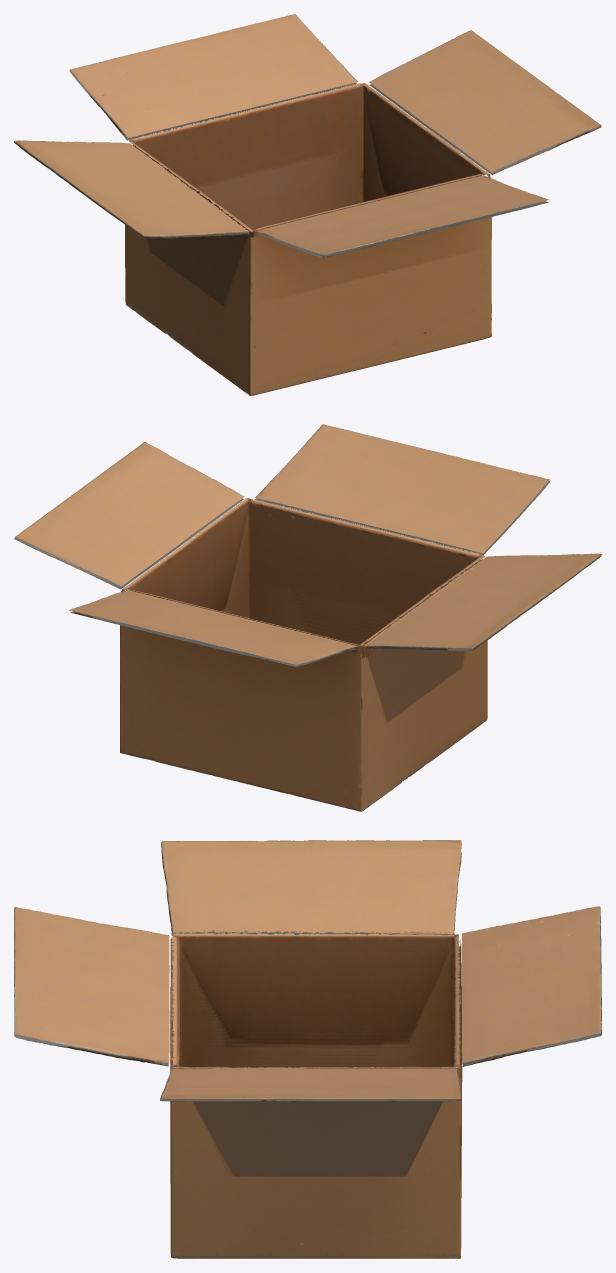
File: carton-split-v3.glb
3 renders of one model, top to bottom at view 1: azimuth 30°, elevation 25°; view 2: azimuth 150°, elevation 25°; view 3: azimuth 270°, elevation 25°, orthographic. The views are drawn at different scales.
Visible parts, largest first — view 1: Mesh_0, Mesh_0.004, Mesh_0.003, Mesh_0.001, Mesh_0.002; view 2: Mesh_0, Mesh_0.002, Mesh_0.003, Mesh_0.001, Mesh_0.004; view 3: Mesh_0, Mesh_0.001, Mesh_0.002, Mesh_0.004, Mesh_0.003.
Part boxes in pixels (left/top/right/bottom): Mesh_0: left=125, top=83, right=491, bottom=395; Mesh_0.004: left=69, top=14, right=357, bottom=140; Mesh_0.003: left=369, top=30, right=601, bottom=175; Mesh_0.001: left=14, top=140, right=249, bottom=238; Mesh_0.002: left=256, top=175, right=549, bottom=257; Mesh_0: left=120, top=497, right=487, bottom=811; Mesh_0.002: left=255, top=424, right=549, bottom=555; Mesh_0.003: left=14, top=442, right=244, bottom=589; Mesh_0.001: left=364, top=553, right=601, bottom=651; Mesh_0.004: left=69, top=590, right=358, bottom=666; Mesh_0: left=170, top=933, right=462, bottom=1258; Mesh_0.001: left=161, top=840, right=462, bottom=935; Mesh_0.002: left=14, top=907, right=169, bottom=1066; Mesh_0.004: left=462, top=906, right=601, bottom=1066; Mesh_0.003: left=160, top=1068, right=461, bottom=1101.
Bounding box in the file's own units: 2 × 0.7961 × 1.92.
Materials: 1 (1 with a texture image).
